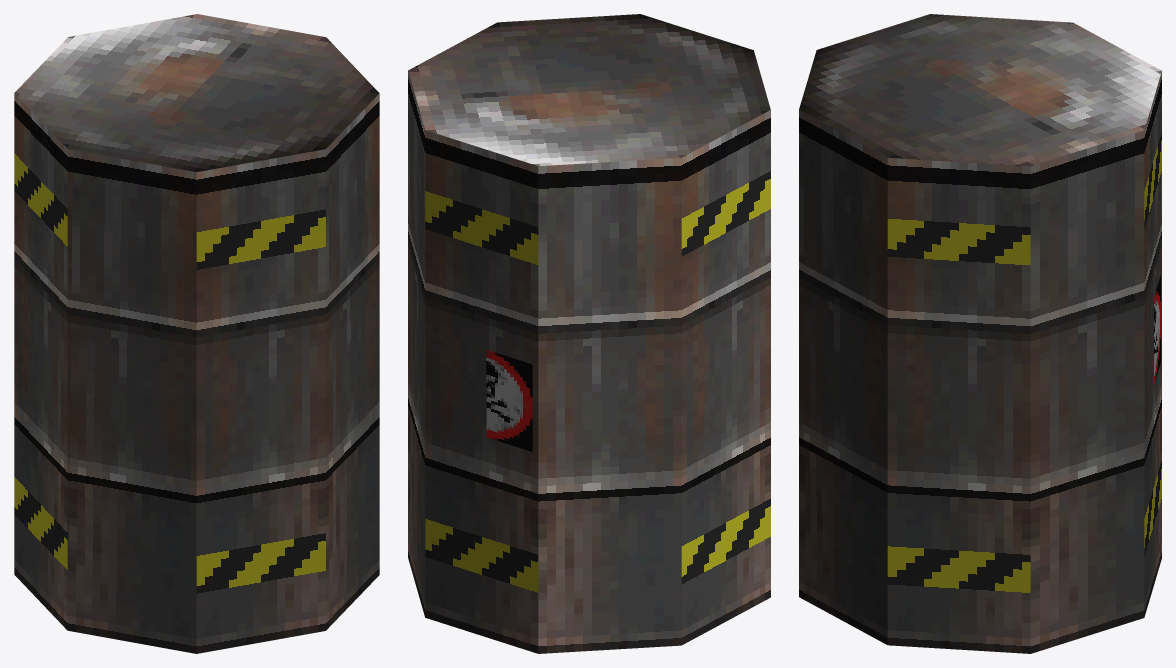
Rendered from primary_147.glb.
3 renders of one model, left to right at view 1: azimuth 30°, elevation 25°; view 2: azimuth 150°, elevation 25°; view 3: azimuth 270°, elevation 25°, orthographic.
Parts seen in each view (by area): view 1: Object; view 2: Object; view 3: Object.
Part boxes in pixels (x1,y1,x2,y2): Object: (14,14,379,653); Object: (408,14,770,653); Object: (799,14,1161,653).
Bounding box in the file's own units: 0.6813 × 1.02 × 0.6858.
Materials: 9 (9 with a texture image).
